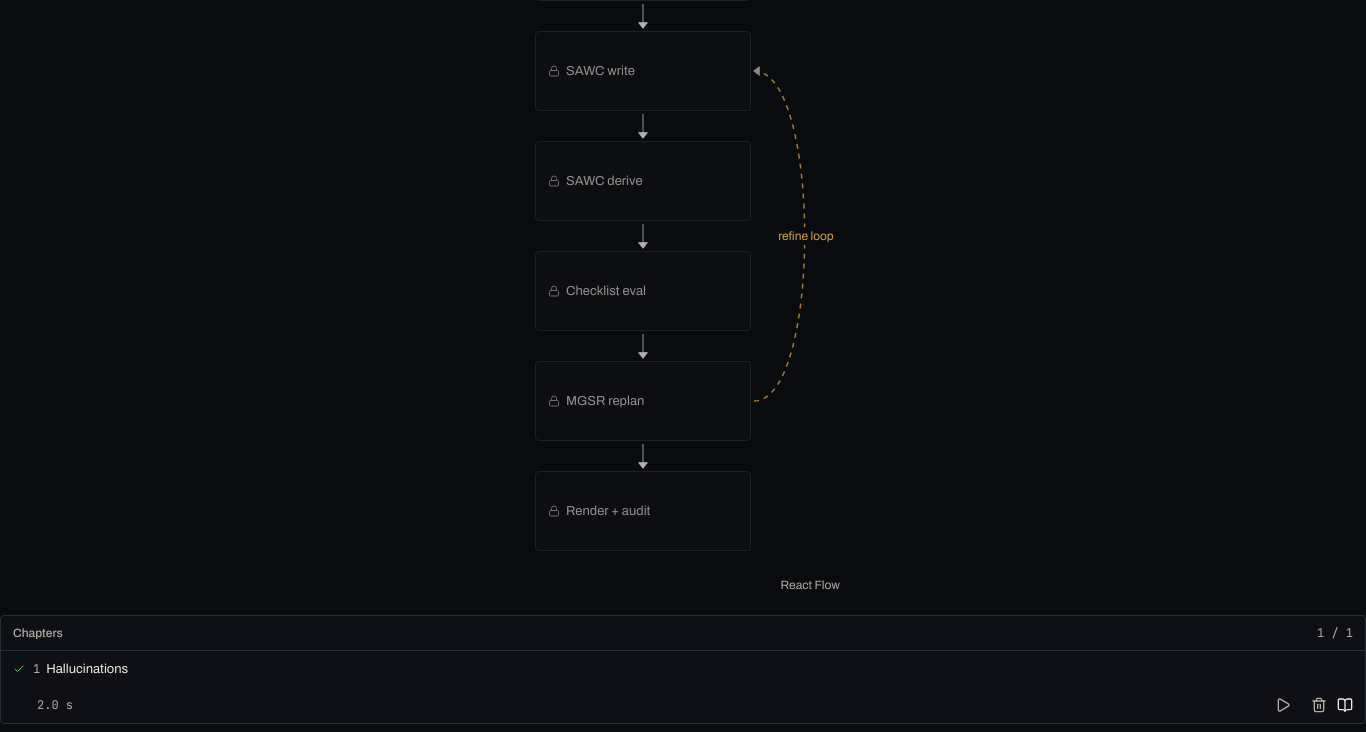
it: Re-running a synthesized chapter › asks first, and leaves everything alone when declined
This screenshot has width=1366, height=732.
(page scrolled)
What coordinates should you click on to do the following:
click the button with test id "chapter-run-01_hall"
I would click on:
 (1283, 705)
Its box is [1265,687,1301,723].
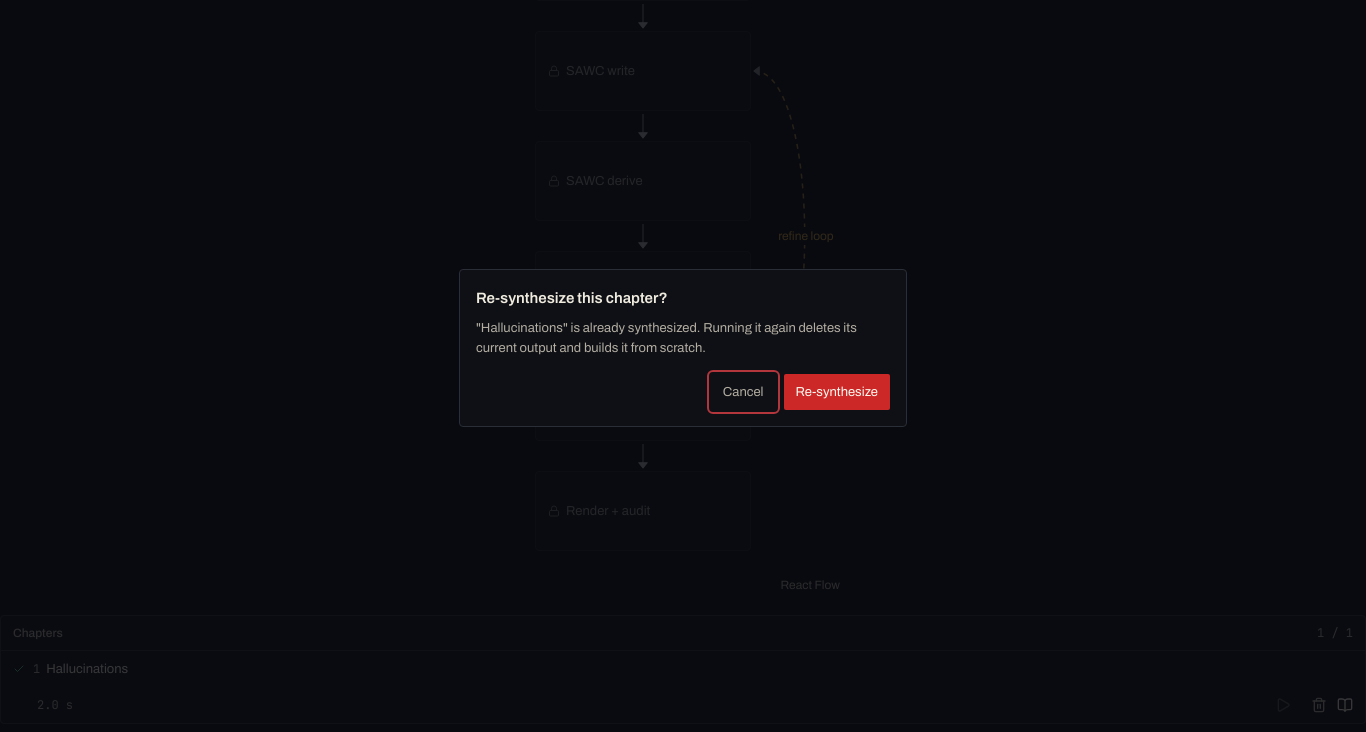
What coordinates should you click on to do the following:
click the button "Cancel"
I would click on:
 (743, 392)
Its box is [711,374,776,410].
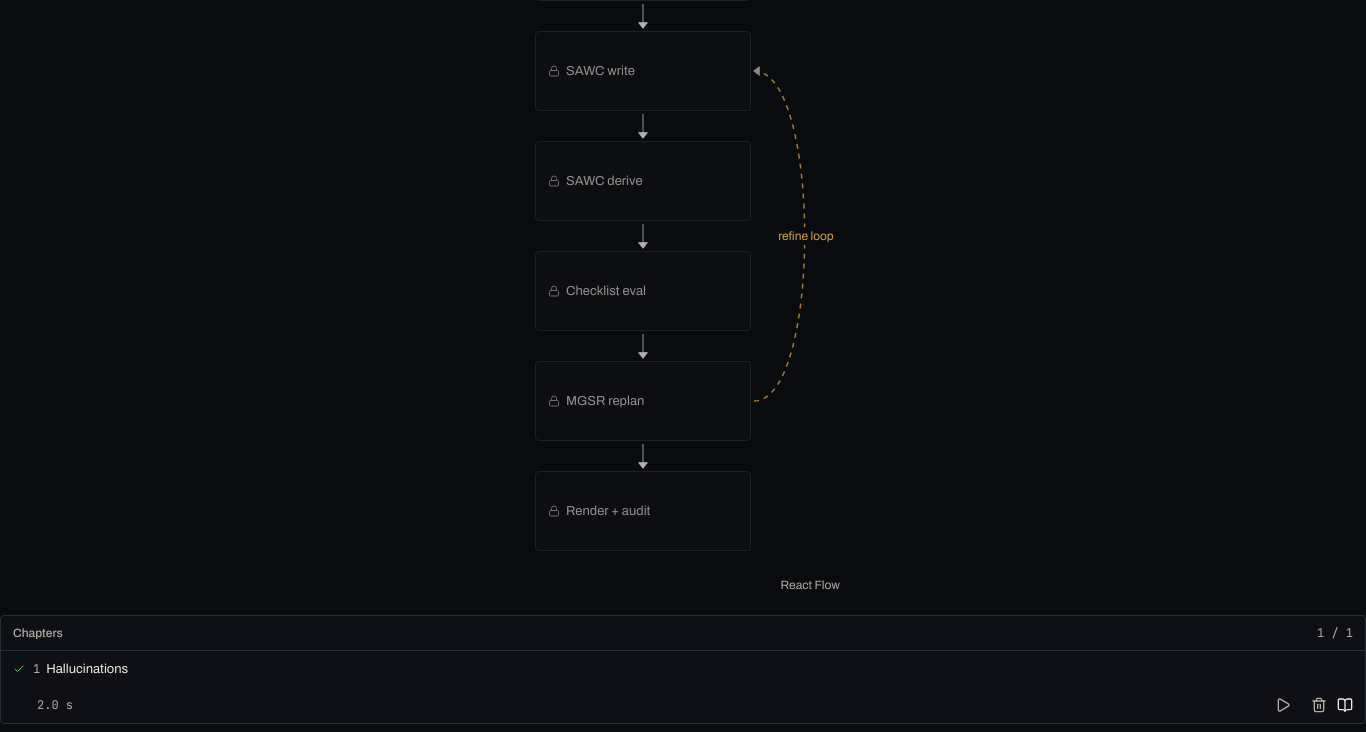
Result: the dialog is gone
Result: the button with test id "chapter-run-01_hall" is enabled at [1265,687,1301,723]
